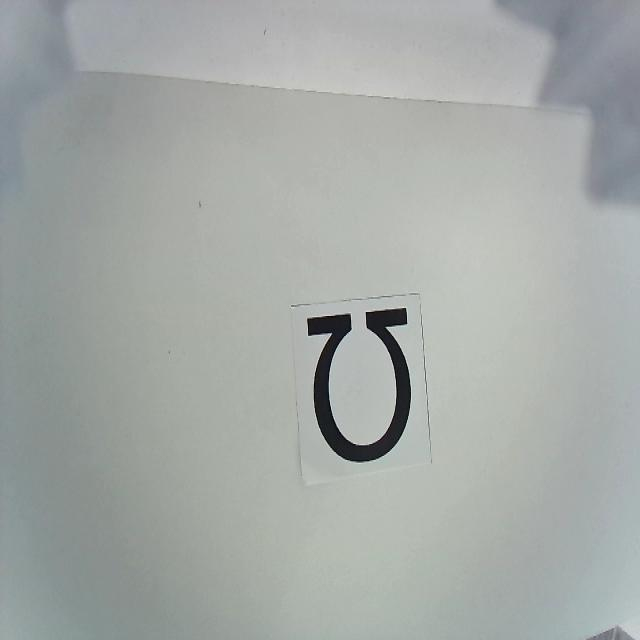OM: (306, 307, 411, 461)
